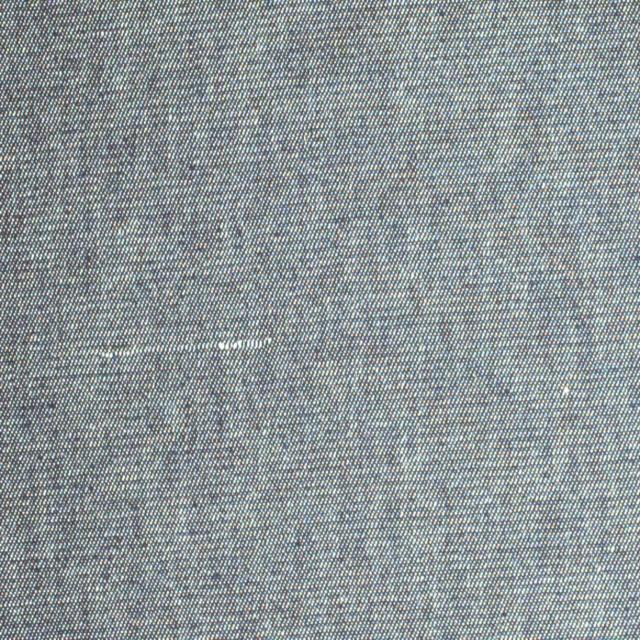Warp_Weft: (98, 335, 274, 360)
hole: (560, 384, 571, 397)
